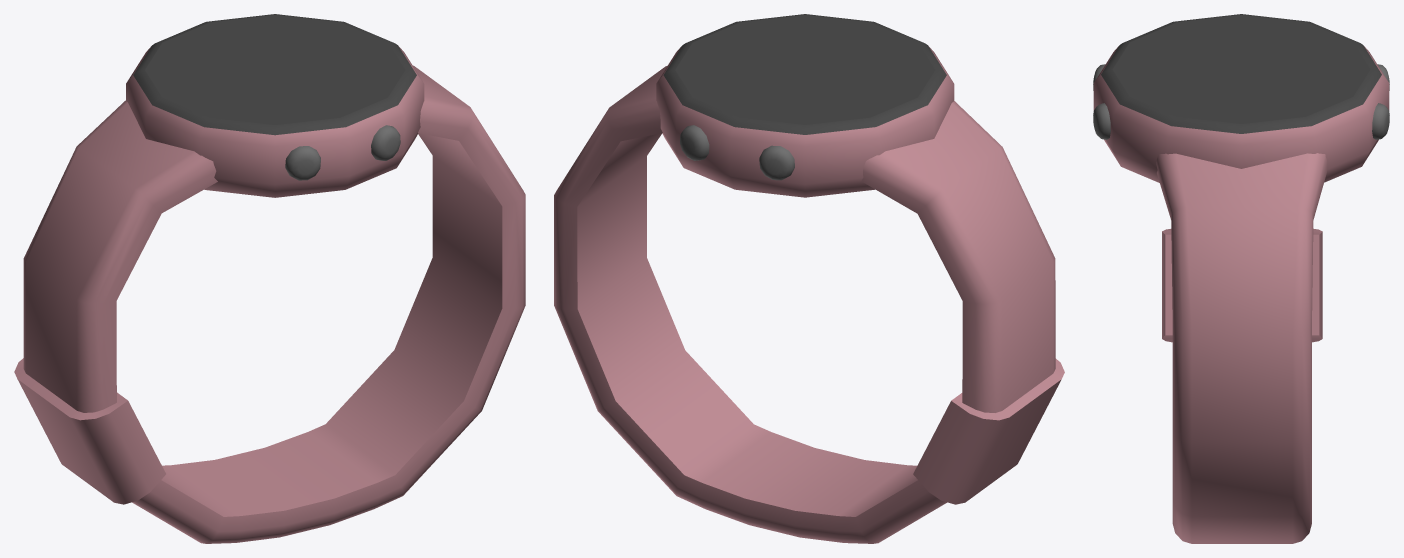
The model's file is Hand Watch_2.fbx.
3 renders of one model, left to right at view 1: azimuth 30°, elevation 25°; view 2: azimuth 150°, elevation 25°; view 3: azimuth 270°, elevation 25°, orthographic.
Parts seen in each view (by area): view 1: Hand Watch_2; view 2: Hand Watch_2; view 3: Hand Watch_2.
Boxes of the visible parts, x1,y1,x2,y2 form: Hand Watch_2: [14, 14, 525, 543]; Hand Watch_2: [554, 14, 1064, 543]; Hand Watch_2: [1093, 14, 1389, 543].
Size of the model in its own units: 0.1117 by 0.1038 by 0.0637.
